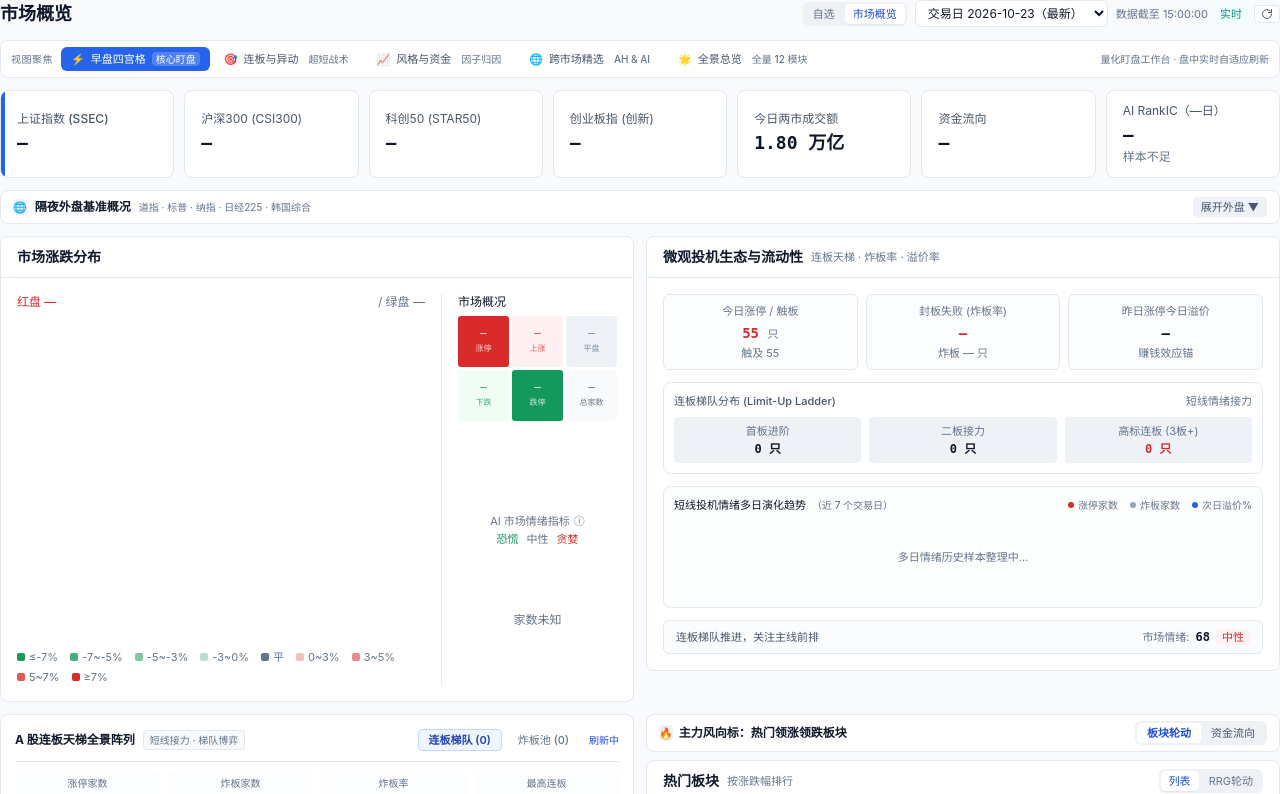
Test case: MarketOverview Distill 早盘四宫格与全景按需折叠 › 在全景模式下能够对单个 Section 进行按需折叠
The image size is (1280, 794).
Click the button "🌟 全景总览 全量 12 模块" at (745, 59), box [668,47,822,71]
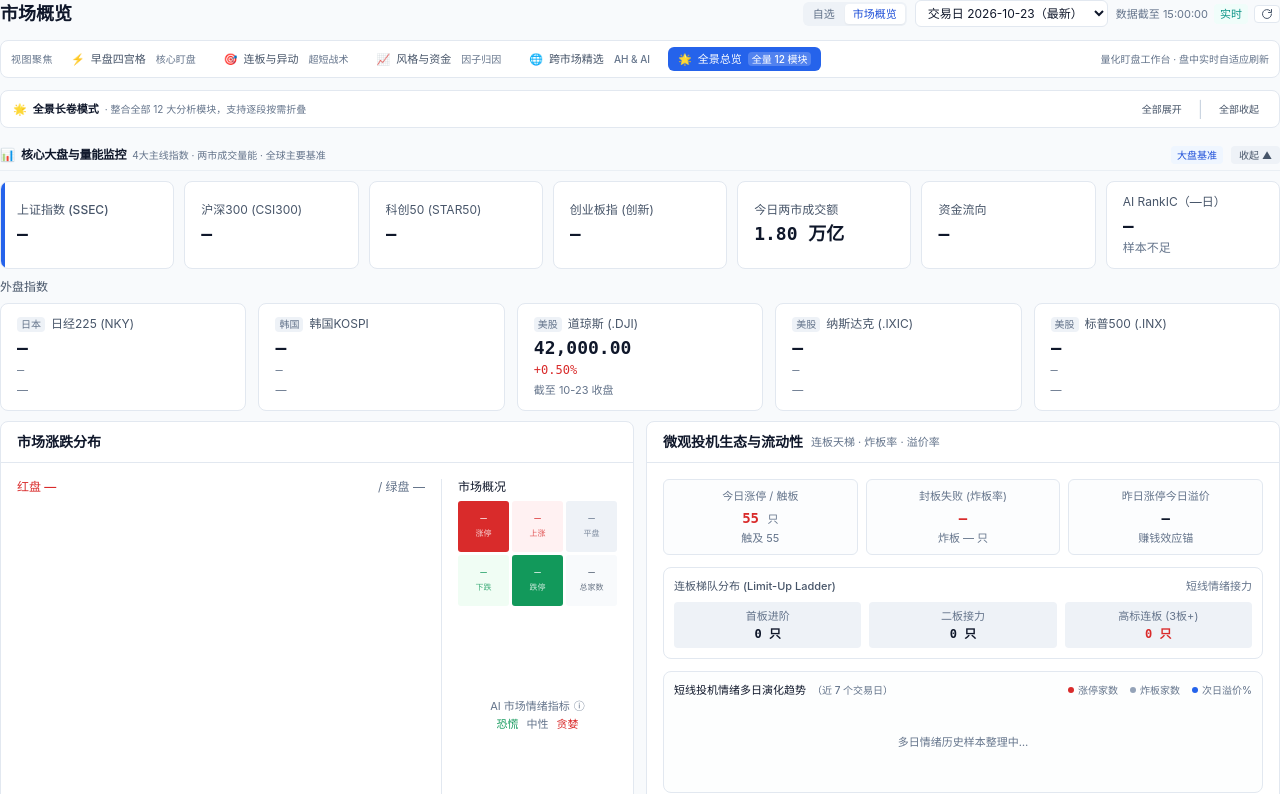
Result: the button "收起 ▲" is shown
#  点击第一个收起
Click the button "收起 ▲" at (1256, 155), box [1231,146,1279,164]
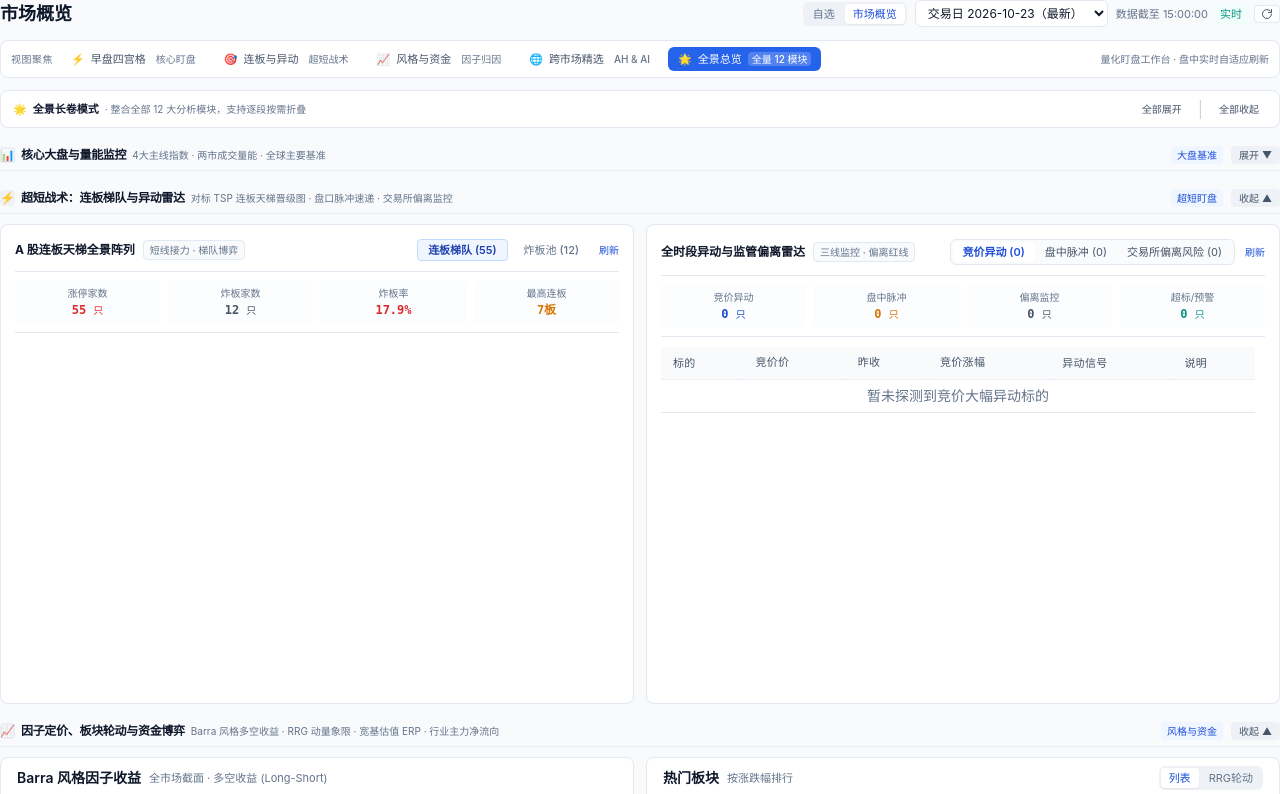
Result: the button "展开 ▼" is shown at [1231,146,1279,164]
